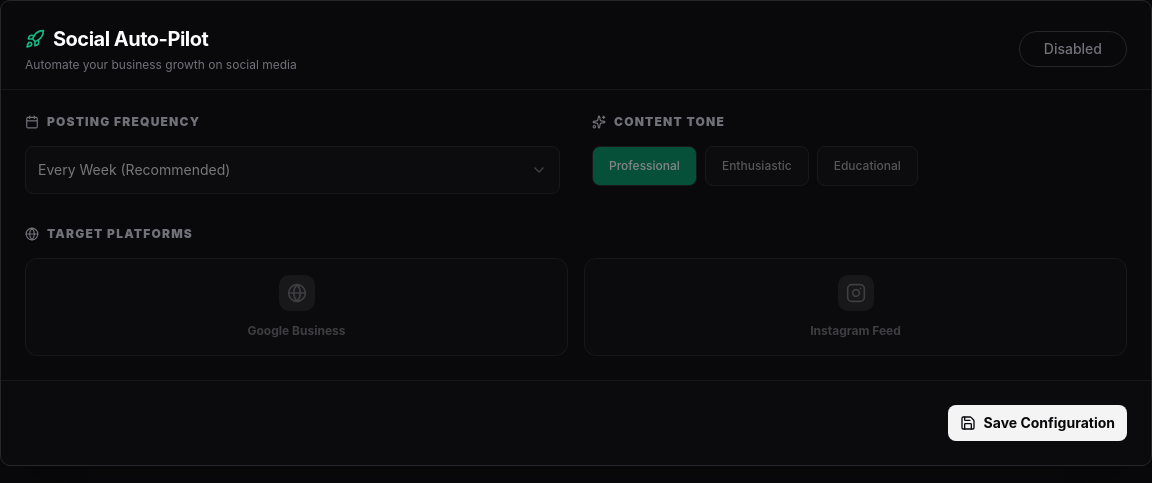
Test: SocialAutoPilotCard › toggles auto-pilot state when button is clicked
The image size is (1152, 483).
Step 1. Click the button "Disabled" → (1073, 49), box x1=1019 y1=31 x2=1127 y2=67
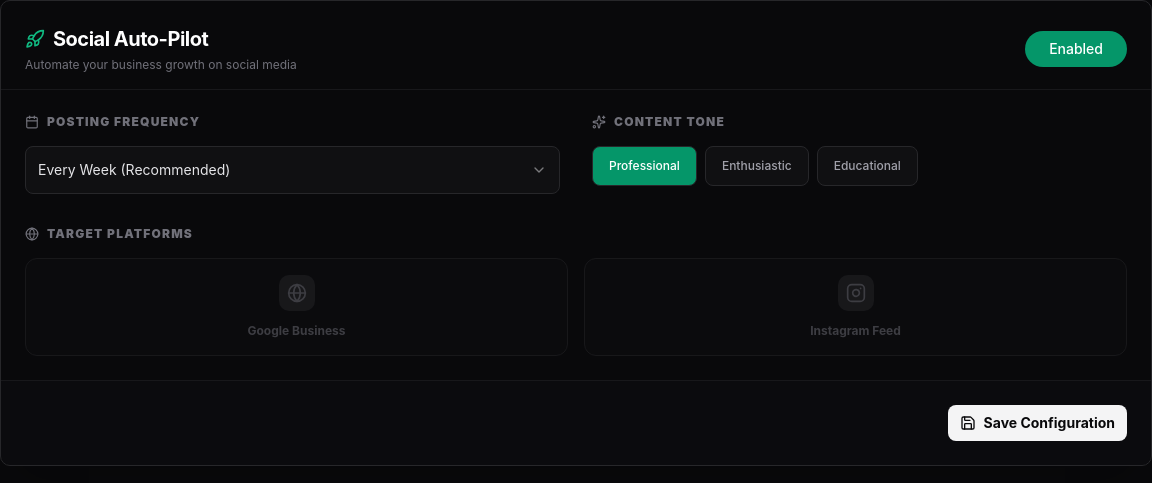
Expected: the button "Enabled" is shown, x1=1025 y1=31 x2=1127 y2=67
